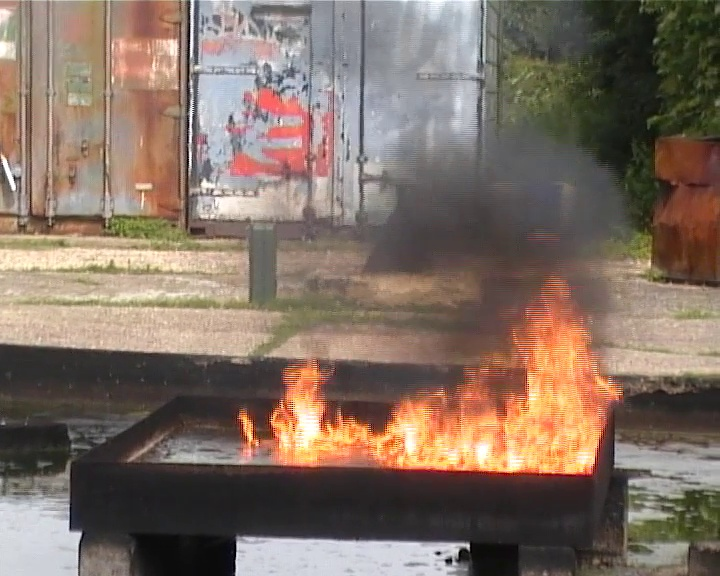fire: (258, 285, 619, 467), (242, 411, 254, 448)
